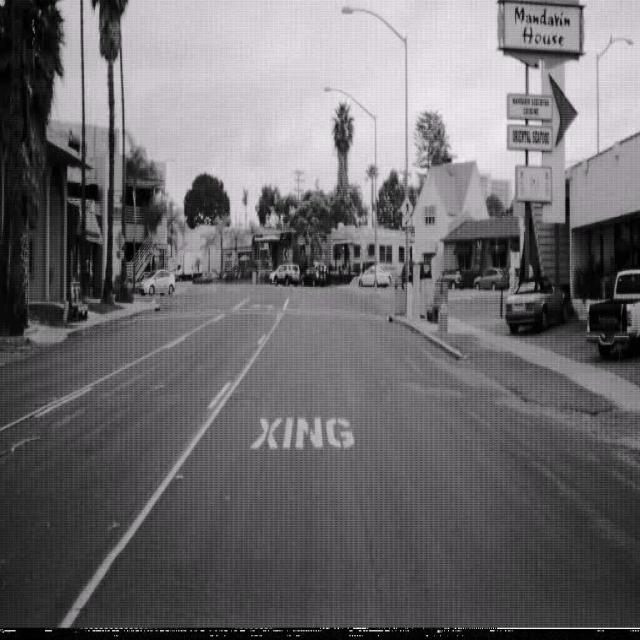pedestrianCrossing: (399, 193, 413, 220)
